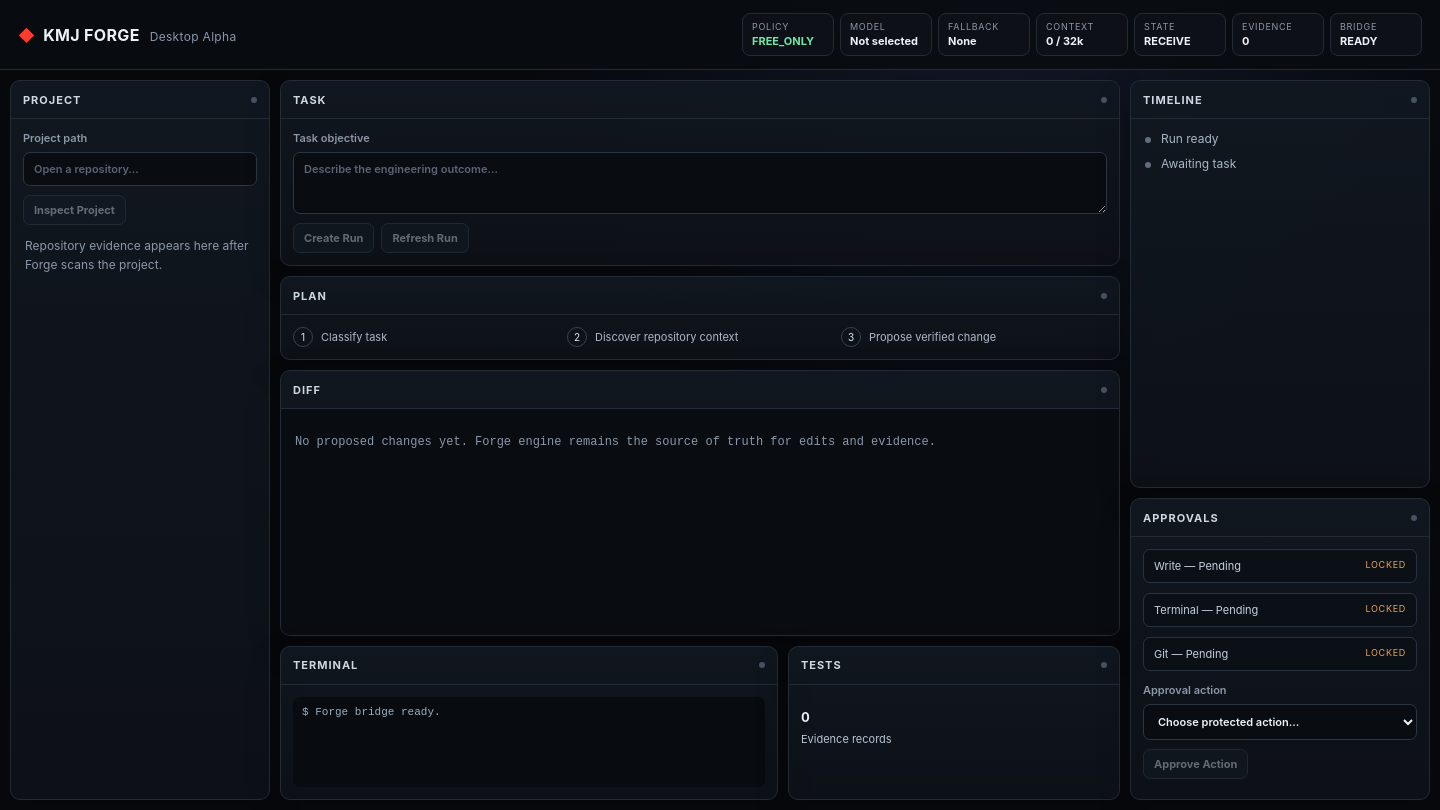
it: Forge Desktop Alpha workspace › clears repository-bound run state when the project path changes
Type "/repo-a" into the field labelled "Project path" at {"x": 140, "y": 169}, box [23,152,257,186]
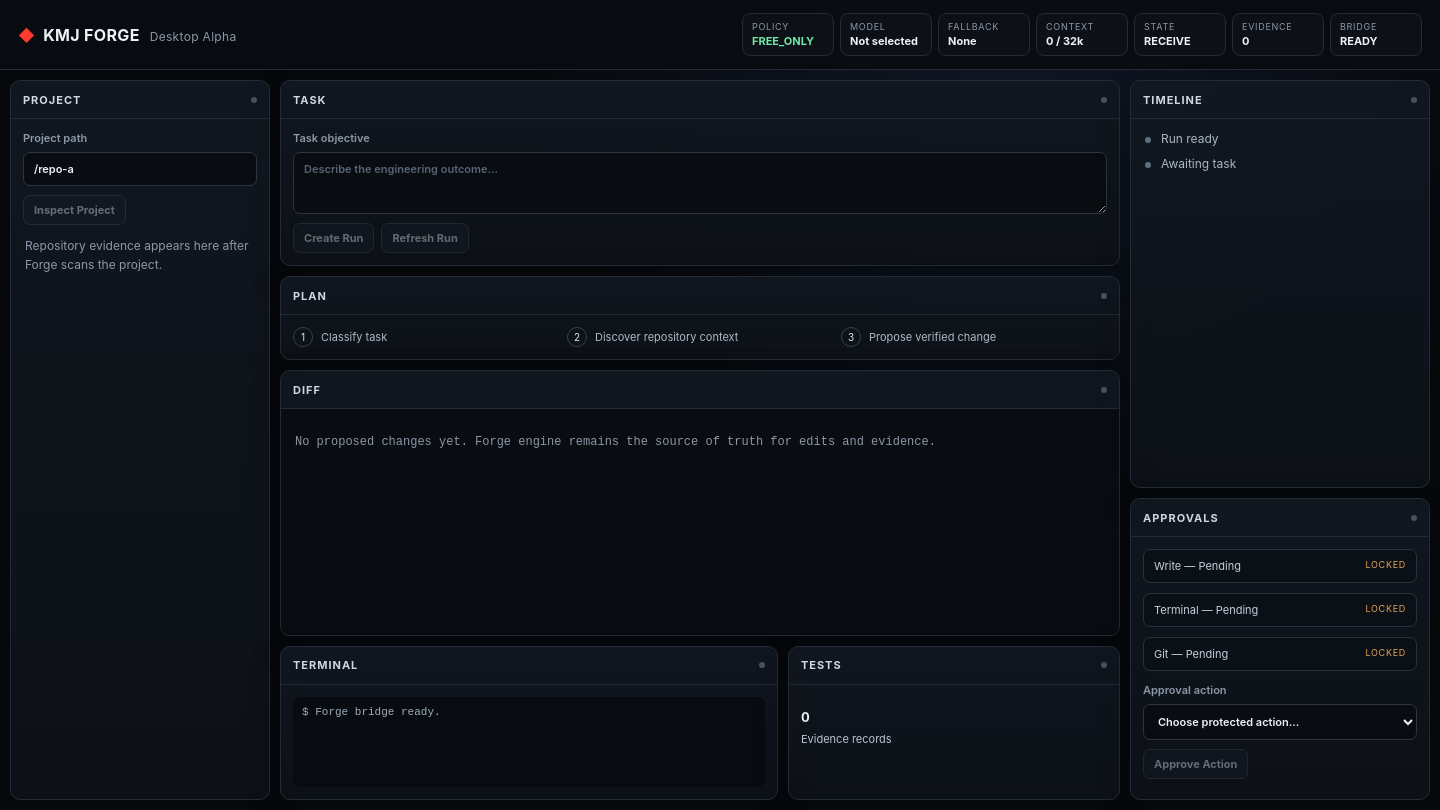
Type "Safe change" into the text box labelled "Task objective" at {"x": 700, "y": 183}, box [293,152,1107,214]
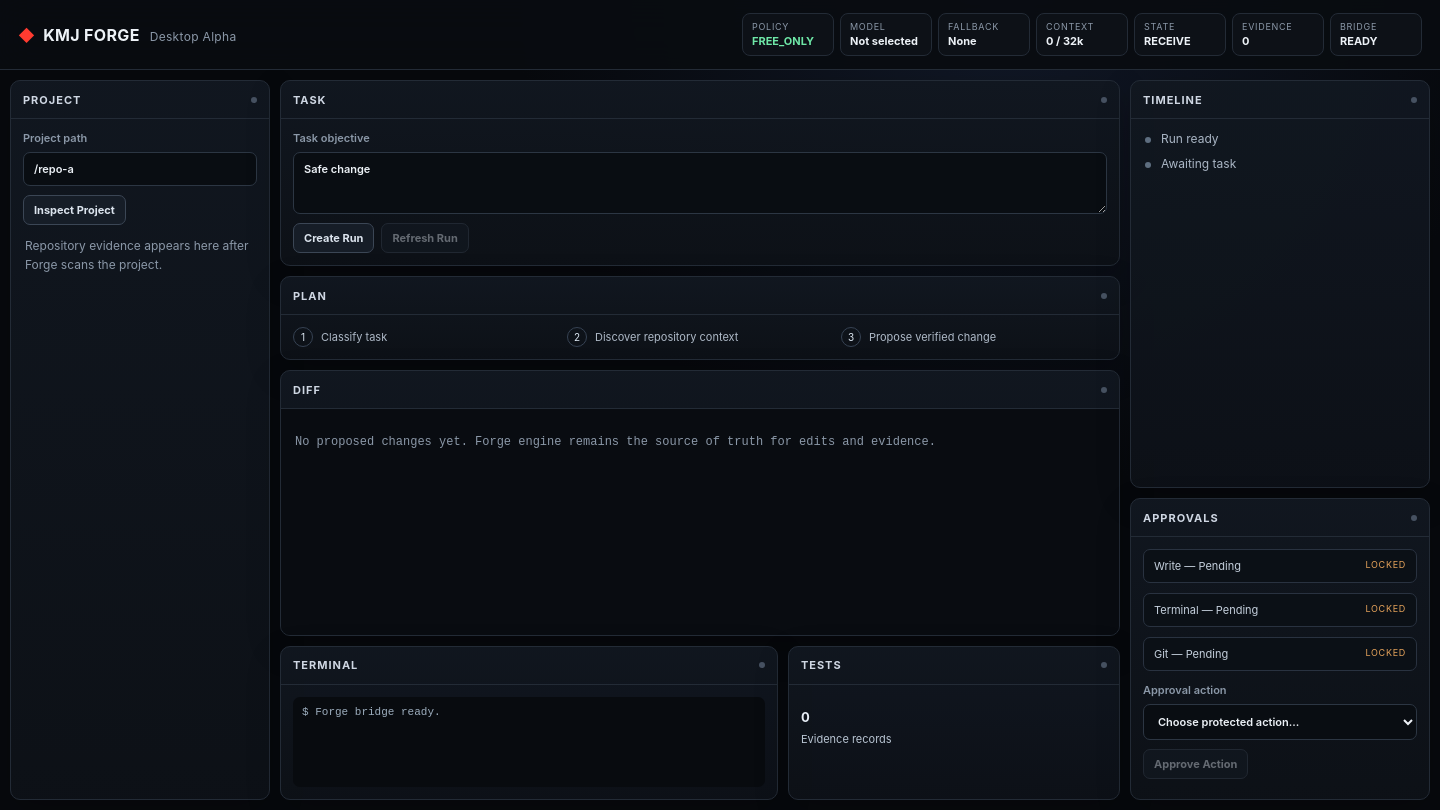
Click the button "Create Run" at {"x": 334, "y": 238}, box [293,223,374,253]
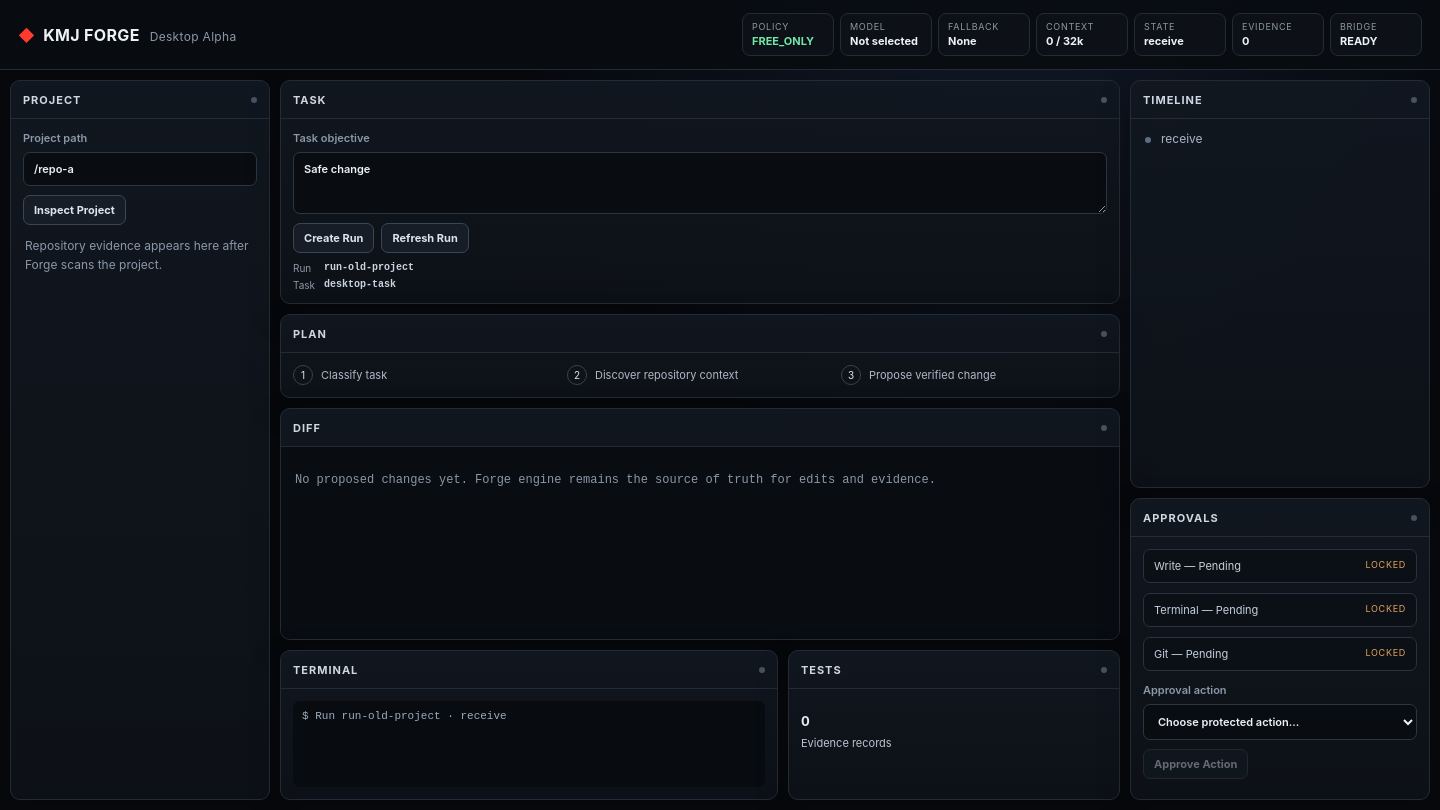
Result: the text "run-old-project" is shown at [324,262,414,273]
Replace the text in the field labelled "Project path" with "/repo-b" at {"x": 140, "y": 169}, box [23,152,257,186]
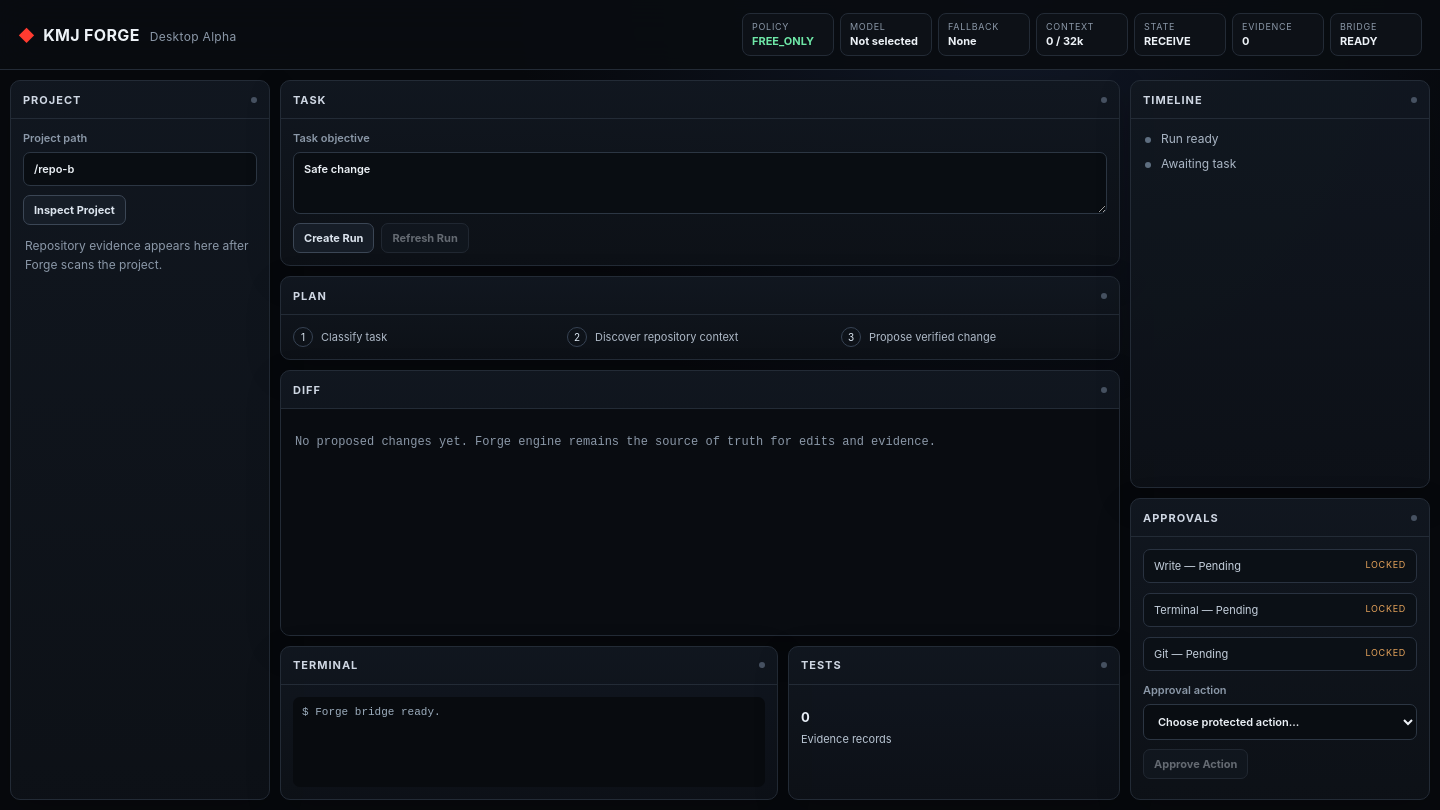
Result: the text "run-old-project" is gone
Result: the button "Refresh Run" is disabled at [381,223,469,253]
